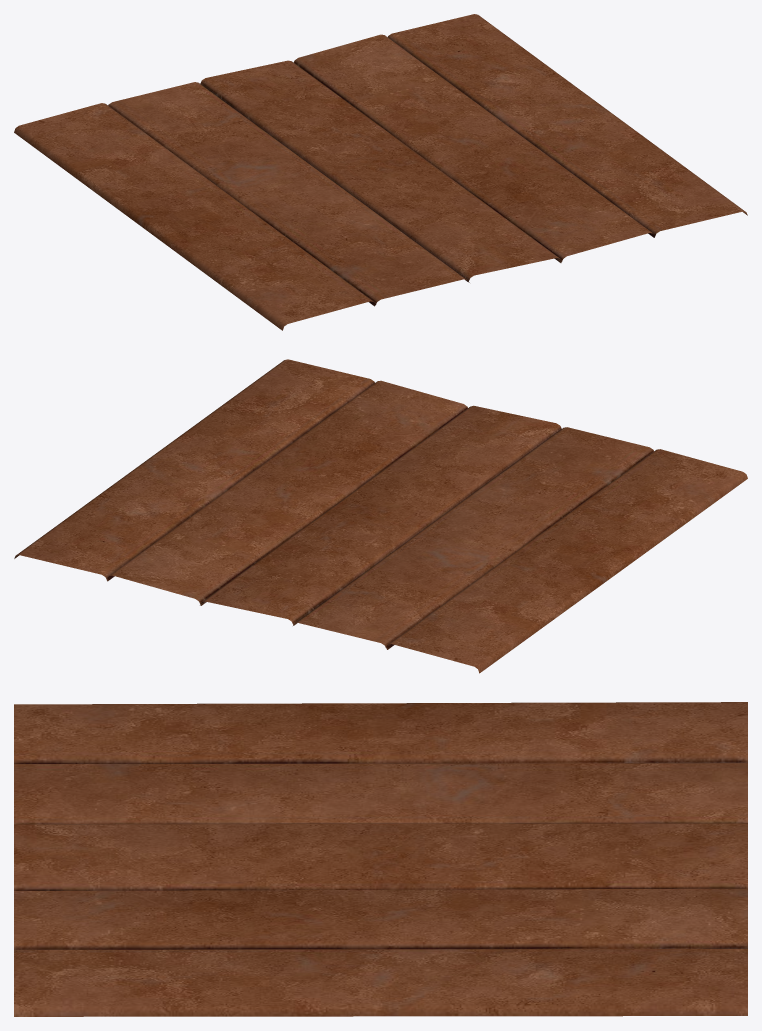
File: ceiling_600_600_02.glb
3 renders of one model, top to bottom at view 1: azimuth 30°, elevation 25°; view 2: azimuth 150°, elevation 25°; view 3: azimuth 270°, elevation 25°, orthographic. The views are drawn at different scales.
Visible parts, largest first — view 1: ceiling_600_600_02; view 2: ceiling_600_600_02; view 3: ceiling_600_600_02.
Part boxes in pixels (x1=…): ceiling_600_600_02: x1=14, y1=14, x2=747, y2=330; ceiling_600_600_02: x1=14, y1=359, x2=747, y2=673; ceiling_600_600_02: x1=14, y1=702, x2=747, y2=1016.
Bounding box in the file's own units: 6 × 0.1316 × 6.
1 material, 1 textured.
